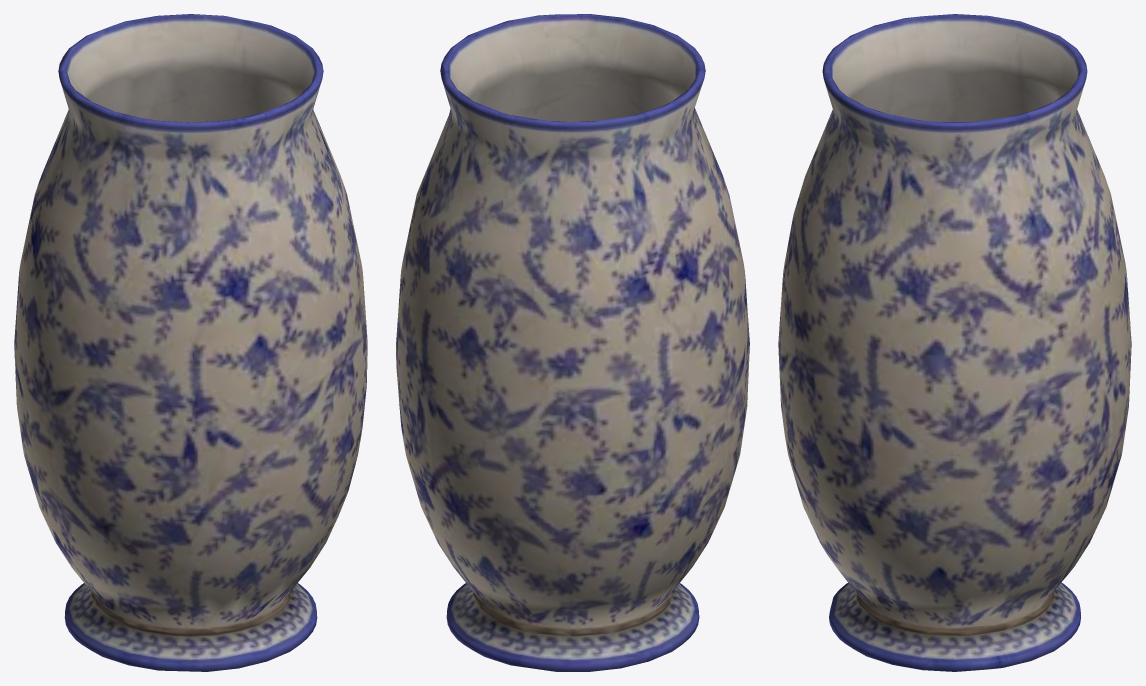
File: antique_ceramic_vase_01.glb
The picture shows the model from 3 angles, left to right: view 1: azimuth 30°, elevation 25°; view 2: azimuth 150°, elevation 25°; view 3: azimuth 270°, elevation 25°; orthographic projection.
Visible parts, largest first — view 1: antique_ceramic_vase_01; view 2: antique_ceramic_vase_01; view 3: antique_ceramic_vase_01.
Part boxes in pixels (x1=…): antique_ceramic_vase_01: x1=14, y1=14, x2=367, y2=671; antique_ceramic_vase_01: x1=396, y1=14, x2=749, y2=671; antique_ceramic_vase_01: x1=778, y1=14, x2=1131, y2=671.
Bounding box in the file's own units: 0.2549 × 0.4396 × 0.255.
1 material, 1 textured.
